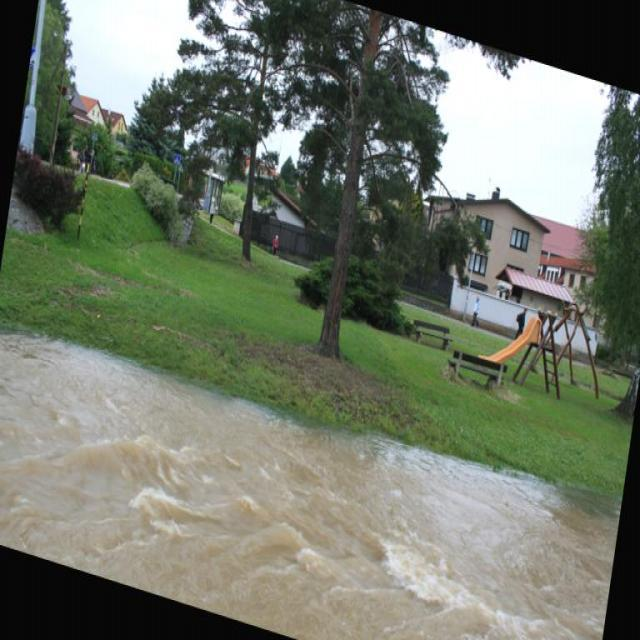flood: (0, 293, 623, 638)
